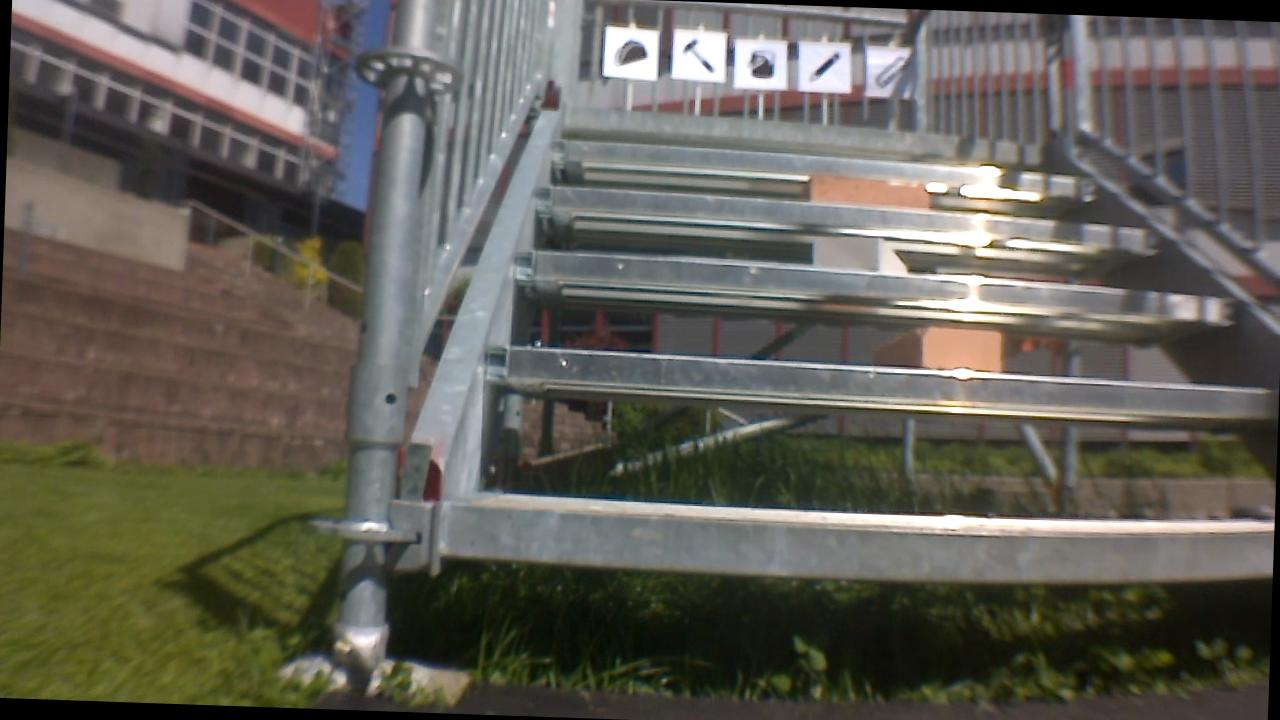brick: (915, 323, 1005, 371), (805, 177, 932, 209), (813, 232, 909, 273)
edge: (432, 491, 1274, 582), (484, 347, 1279, 412), (524, 182, 1160, 260), (508, 250, 1229, 316), (561, 100, 1059, 164), (544, 132, 1102, 186)
steps: (411, 101, 1280, 603)
